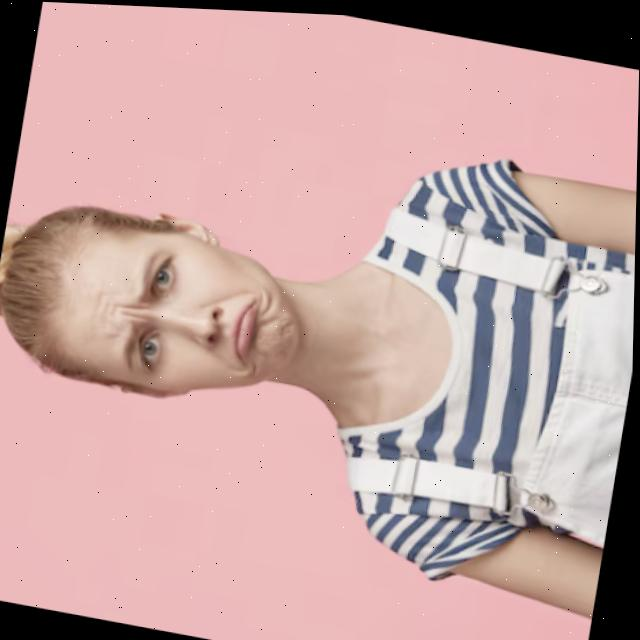sad: (18, 181, 333, 479)
